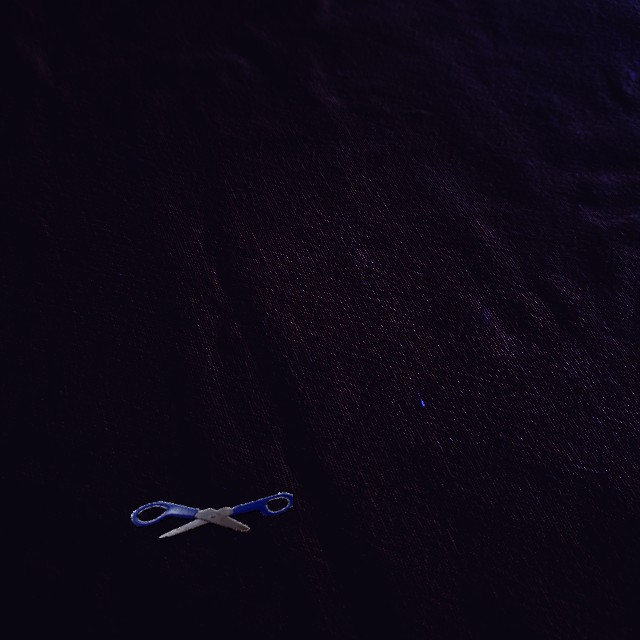scissors: (130, 492, 293, 538)
